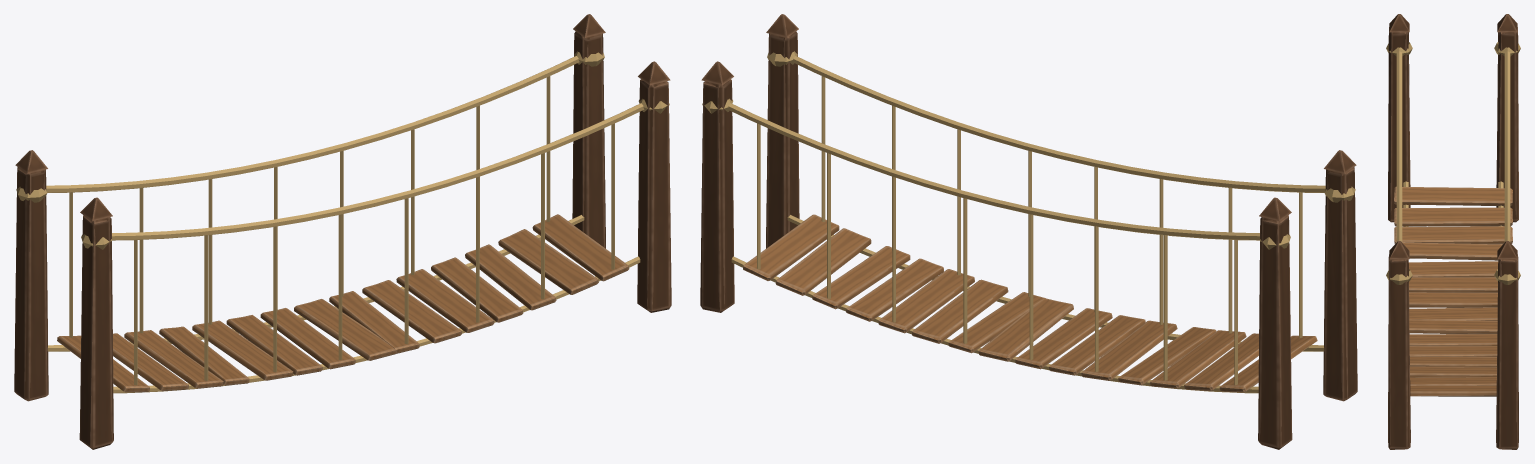
Rendered from rope_bridge.glb.
3 views of the same model, side by side, from view 1: azimuth 30°, elevation 25°; view 2: azimuth 150°, elevation 25°; view 3: azimuth 270°, elevation 25° (orthographic). The views are drawn at different scales.
Visible parts, largest first — view 1: post_front_right, post_front_left, post_back_left, post_back_right, hand_rope_front, hand_rope_back, plank_13, plank_14, plank_7, plank_9, plank_10, plank_11 (+16 smaller); view 2: post_back_right, post_back_left, post_front_left, post_front_right, hand_rope_back, hand_rope_front, plank_13, plank_14, plank_9, plank_7, plank_10, plank_11 (+16 smaller); view 3: post_front_right, post_back_right, post_back_left, post_front_left, plank_1, plank_0, plank_2, plank_3, plank_4, plank_6, plank_5, hand_rope_front (+17 smaller).
Boxes of the visible parts, x1=… form: post_front_right: x1=637, y1=79, x2=671, y2=312; post_front_left: x1=79, y1=215, x2=113, y2=449; post_back_left: x1=14, y1=167, x2=48, y2=401; post_back_right: x1=572, y1=31, x2=605, y2=248; hand_rope_front: x1=112, y1=103, x2=644, y2=240; hand_rope_back: x1=46, y1=56, x2=579, y2=192; plank_13: x1=498, y1=229, x2=598, y2=294; plank_14: x1=532, y1=214, x2=629, y2=281; plank_7: x1=294, y1=299, x2=397, y2=360; plank_9: x1=362, y1=280, x2=461, y2=343; plank_10: x1=396, y1=269, x2=494, y2=332; plank_11: x1=431, y1=257, x2=523, y2=322; post_back_right: x1=700, y1=79, x2=734, y2=312; post_back_left: x1=1258, y1=215, x2=1292, y2=449; post_front_left: x1=1323, y1=167, x2=1357, y2=401; post_front_right: x1=766, y1=31, x2=799, y2=248; hand_rope_back: x1=727, y1=103, x2=1259, y2=240; hand_rope_front: x1=792, y1=56, x2=1325, y2=192; plank_13: x1=775, y1=228, x2=871, y2=295; plank_14: x1=743, y1=214, x2=839, y2=280; plank_9: x1=912, y1=279, x2=1008, y2=343; plank_7: x1=978, y1=298, x2=1073, y2=361; plank_10: x1=878, y1=269, x2=974, y2=333; plank_11: x1=846, y1=258, x2=943, y2=321; post_front_right: x1=1388, y1=254, x2=1410, y2=449; post_back_right: x1=1496, y1=254, x2=1518, y2=449; post_back_left: x1=1496, y1=27, x2=1518, y2=222; post_front_left: x1=1388, y1=27, x2=1410, y2=222; plank_1: x1=1394, y1=207, x2=1512, y2=226; plank_0: x1=1394, y1=186, x2=1512, y2=206; plank_2: x1=1394, y1=226, x2=1512, y2=244; plank_3: x1=1395, y1=242, x2=1502, y2=260; plank_4: x1=1408, y1=261, x2=1498, y2=277; plank_6: x1=1409, y1=292, x2=1497, y2=307; plank_5: x1=1409, y1=277, x2=1497, y2=292; hand_rope_front: x1=1396, y1=51, x2=1402, y2=241.
Size of the model in its own units: 3.44 by 1.38 by 0.8236.
Materials: 3 (3 with a texture image).
